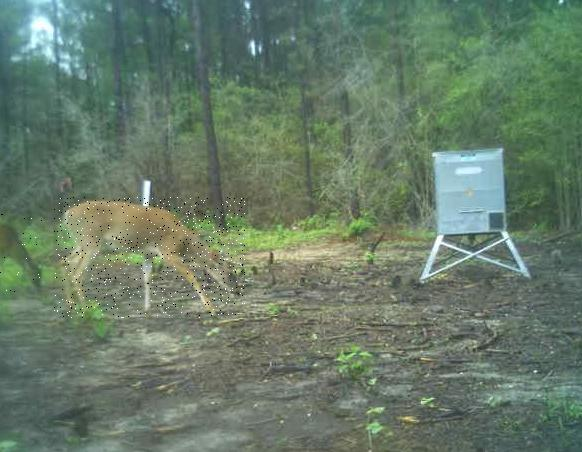Deer: (54, 197, 245, 318), (0, 211, 43, 296)
